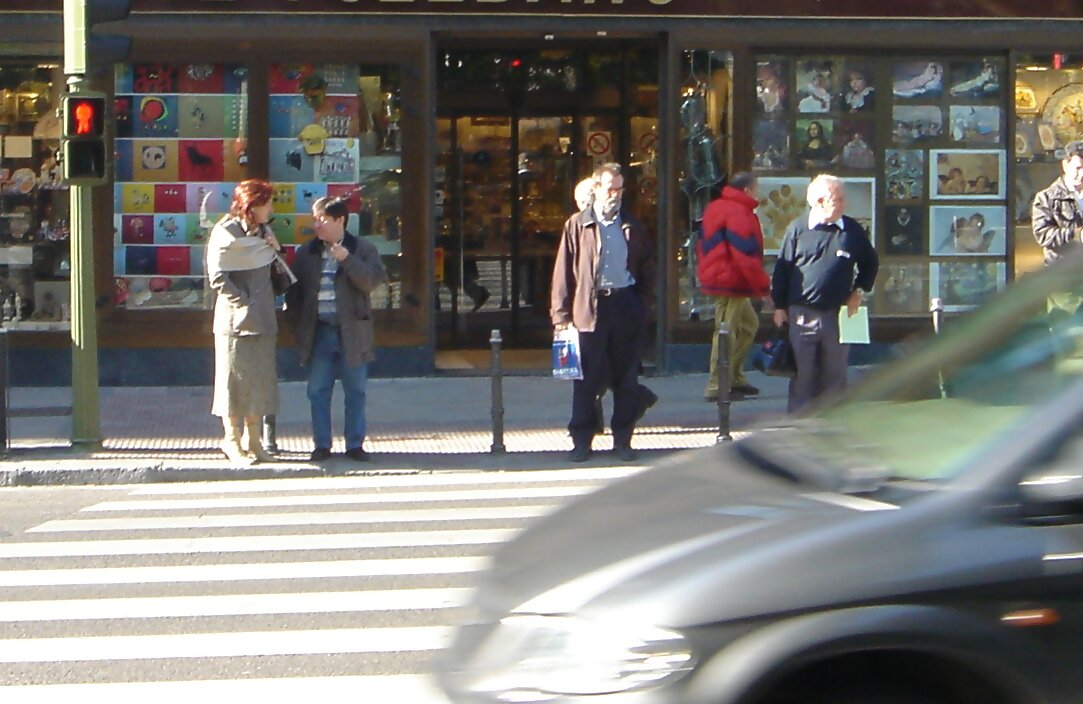person: (547, 146, 656, 471), (201, 166, 305, 480), (296, 190, 388, 467), (772, 171, 880, 403), (683, 163, 770, 421)
